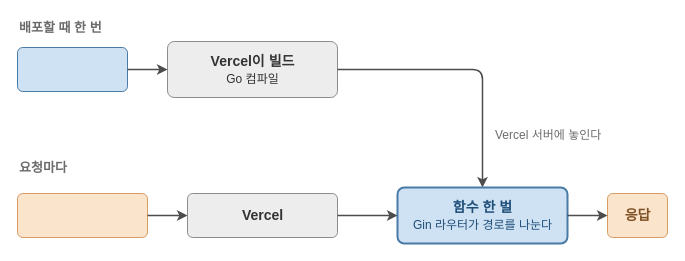
This 685x261 diagram has some shape labels left out. Here are the shapes that lost their labels. From the top down, the centre of each, then its label:
At [72,69]: "git push".
At [82,215]: "브라우저 요청".
